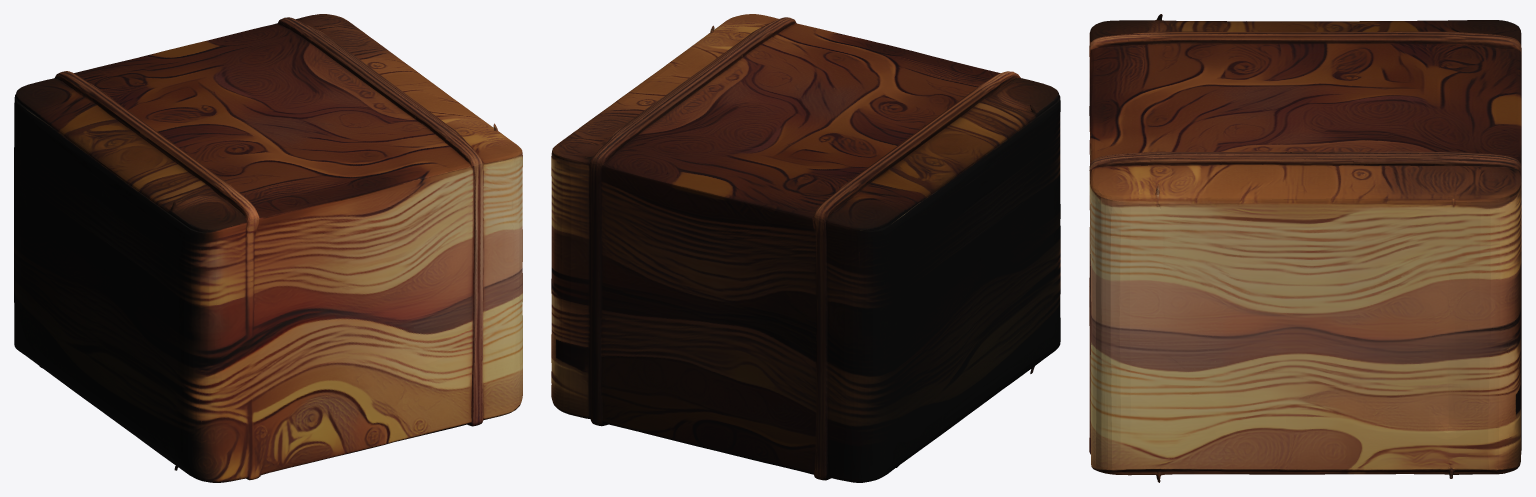
File: wooden-journal-cover-dune.jpeg.glb
3 views of the same model, side by side, from view 1: azimuth 30°, elevation 25°; view 2: azimuth 150°, elevation 25°; view 3: azimuth 270°, elevation 25° (orthographic). The views are drawn at different scales.
Parts seen in each view (by area): view 1: world; view 2: world; view 3: world.
Boxes of the visible parts, x1,y1,x2,y2 form: world: (14, 14, 522, 482); world: (551, 14, 1060, 482); world: (1089, 14, 1521, 482).
Bounding box in the file's own units: 0.9986 × 0.7901 × 1.
1 material, 1 textured.
